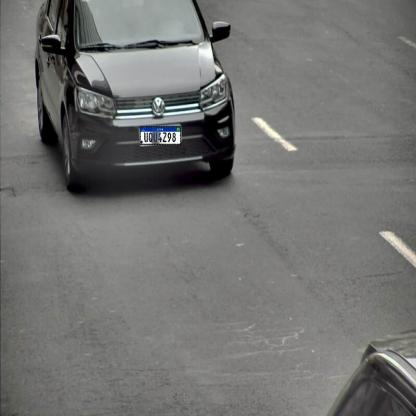PlacaM: (140, 126, 181, 145)
